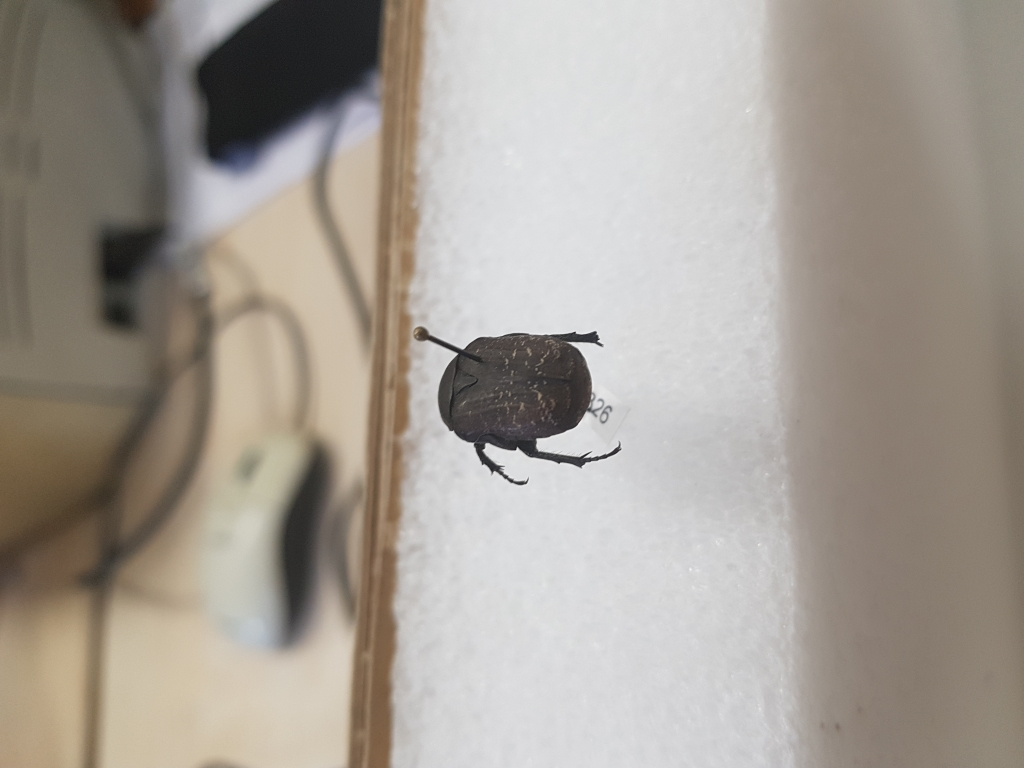Protaetia_oblonga: (435, 319, 637, 489)
